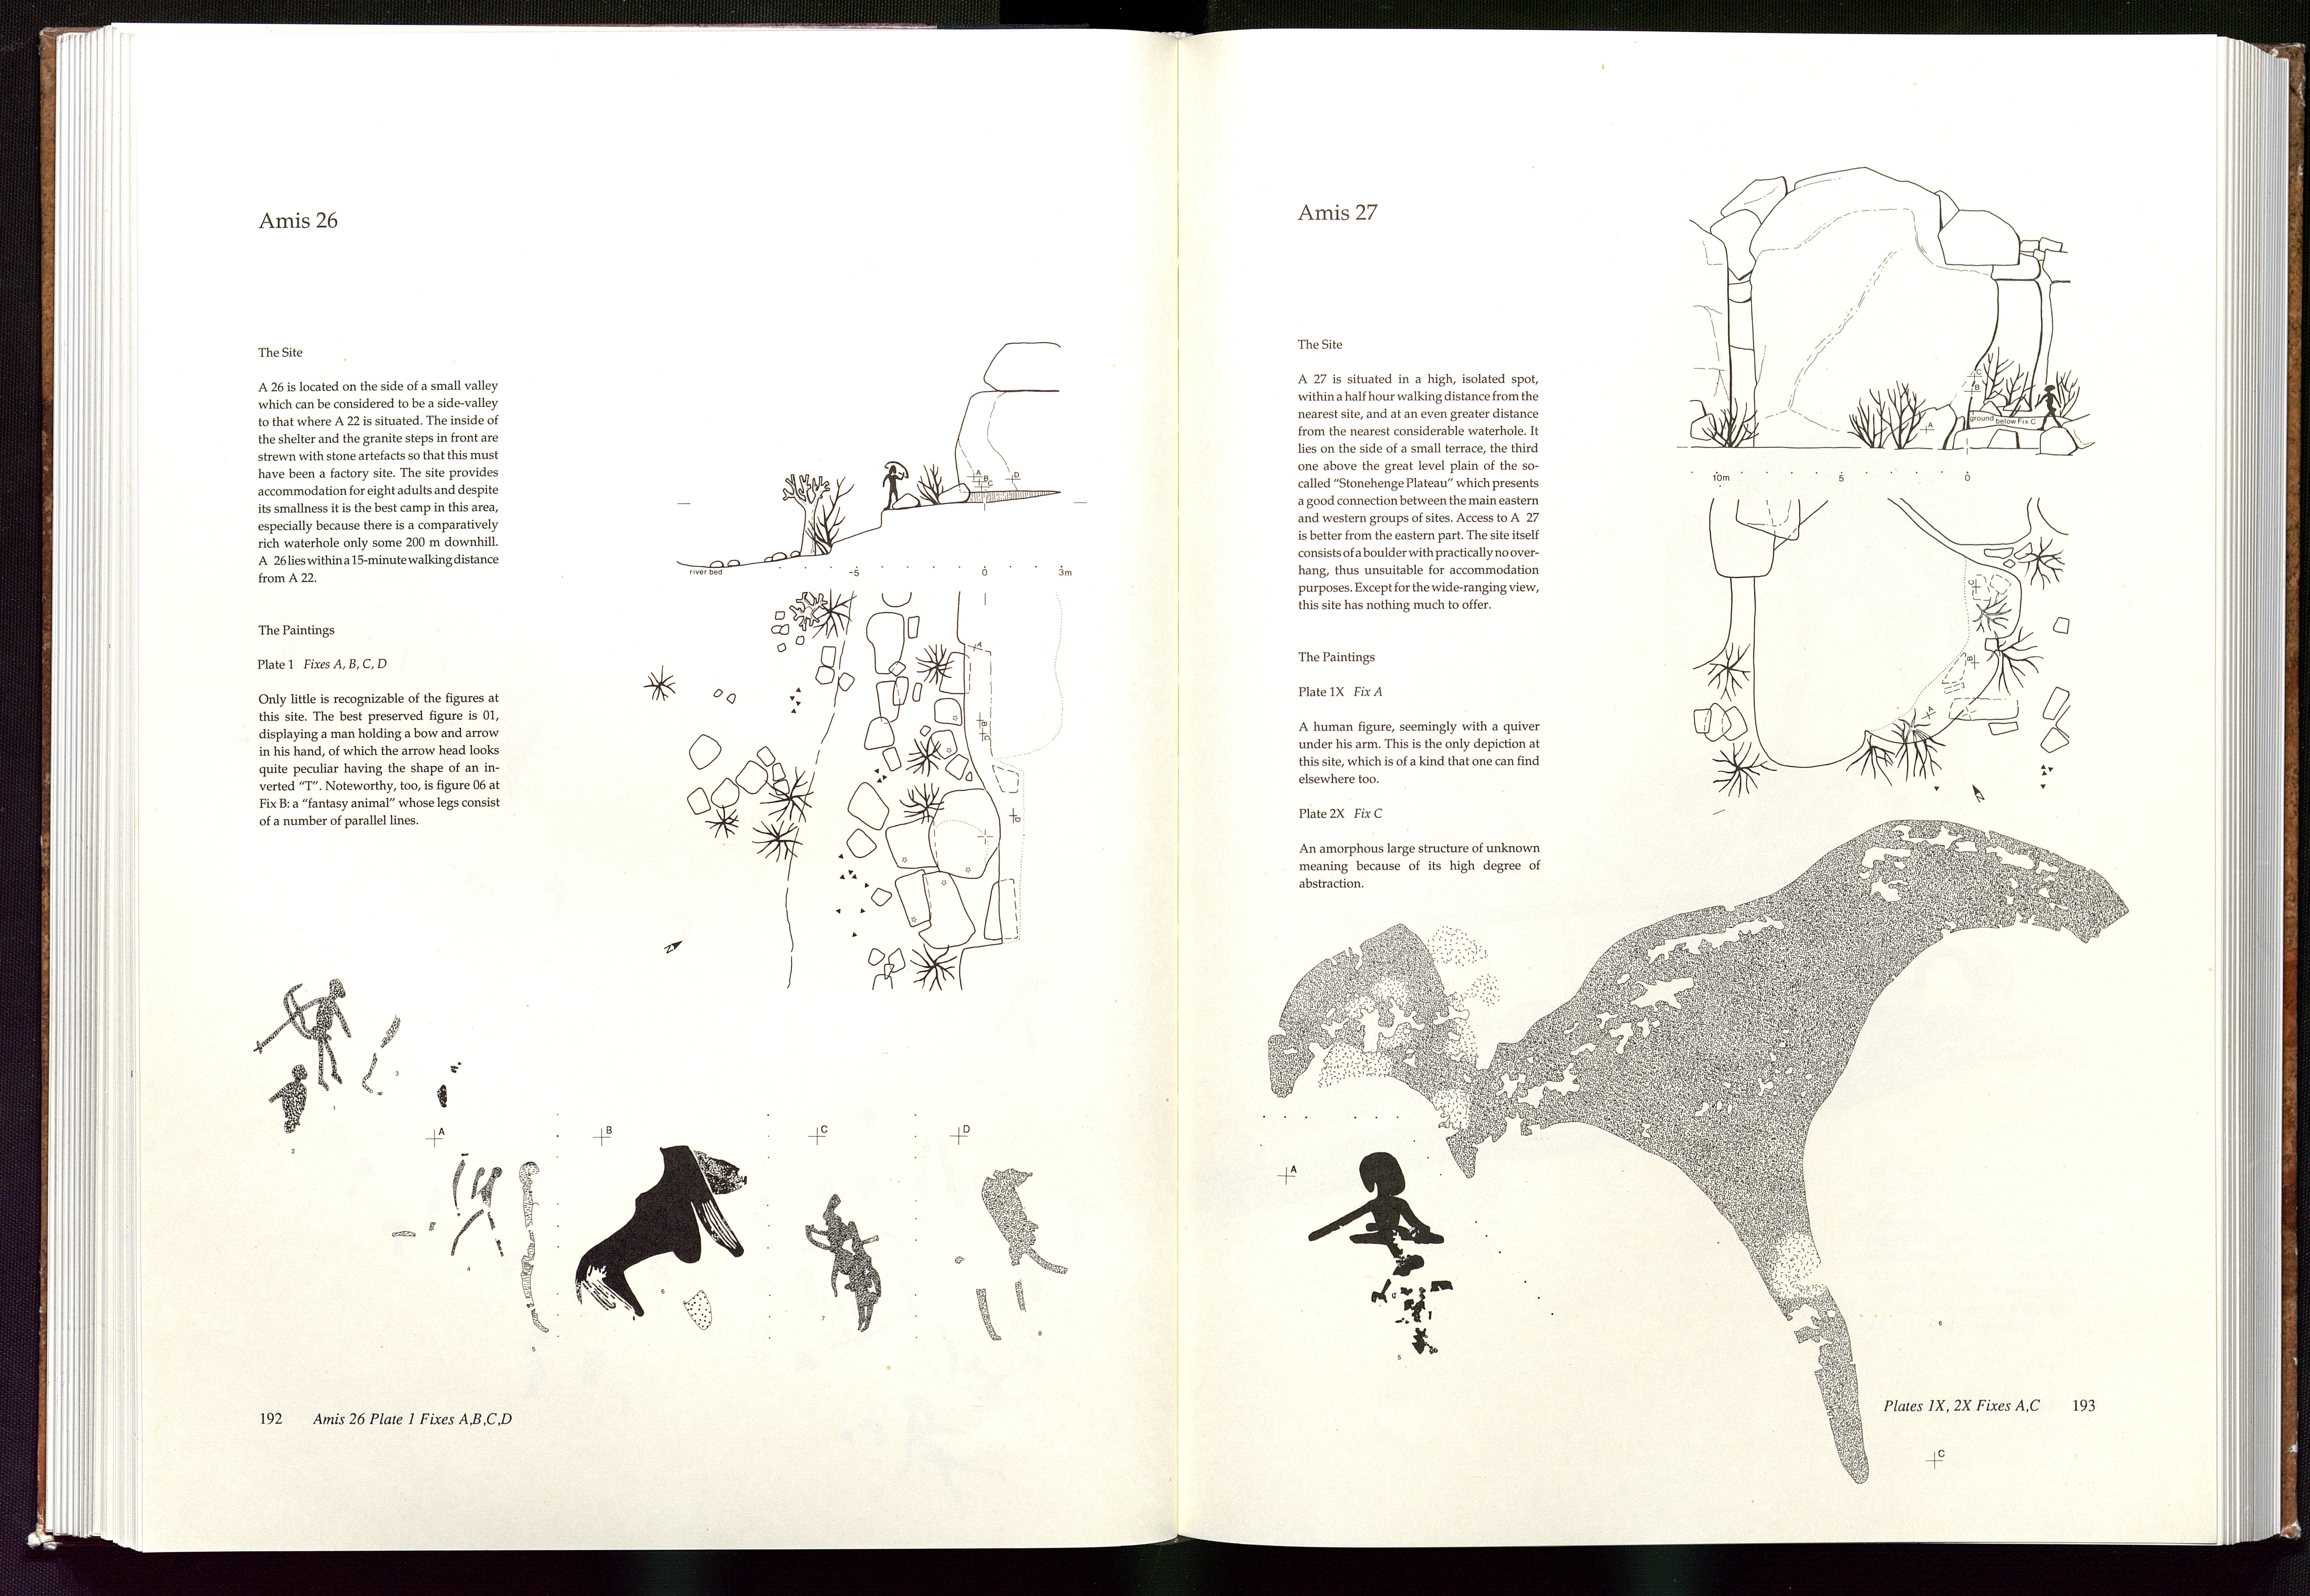human: (1303, 1148, 1461, 1366), (247, 976, 350, 1094), (515, 1153, 562, 1349), (451, 1162, 510, 1270), (262, 1062, 316, 1170)
